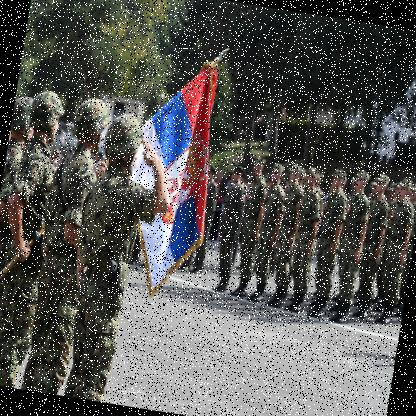rs: (111, 57, 230, 305)
